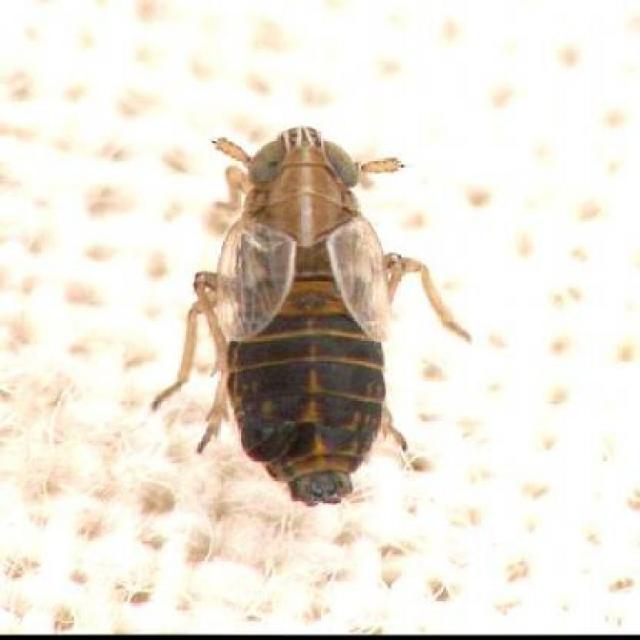brown-planthopper: (204, 120, 404, 509)
